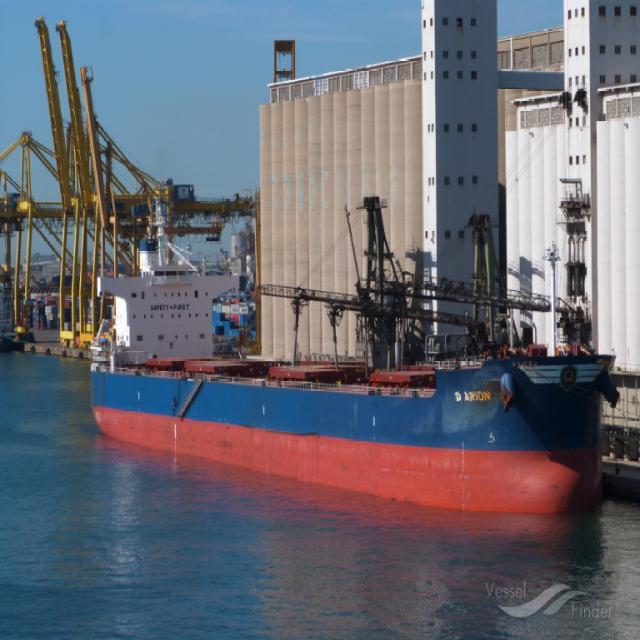OCR: (450, 381, 497, 417)
